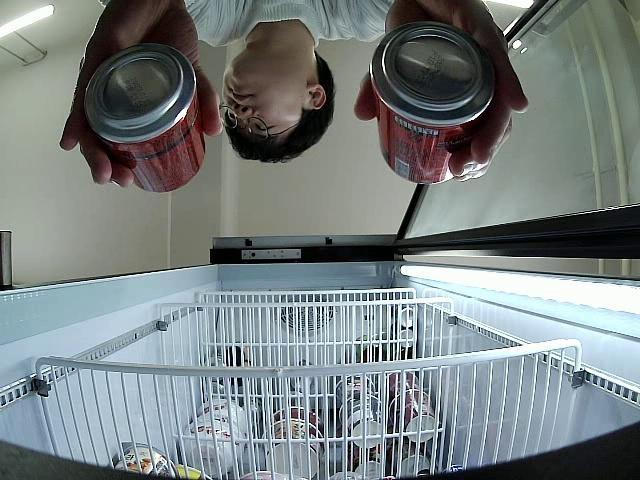11_cocaColaZero: (369, 22, 496, 184), (81, 42, 208, 192)
